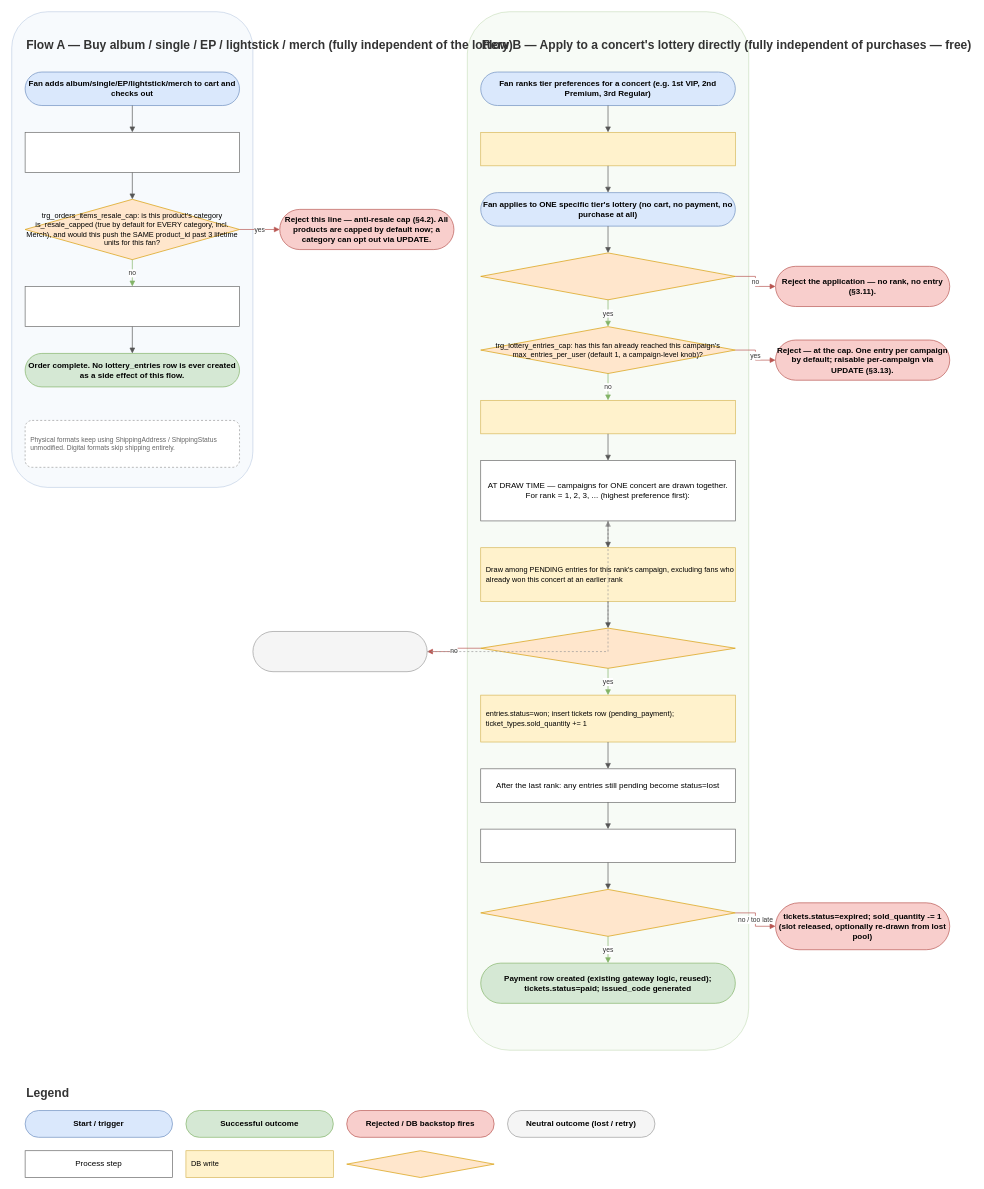
Some shapes in this 984 by 1189 pixel diagram are drawn without their labels. Here are the shapes that lost their labels. From the top down, the box of each, then its label:
(24, 132, 240, 173): Existing checkout flow: create Order / OrderItem / Payment
(480, 132, 735, 166): Upsert lottery_preferences rows (concert_id, user_id, ticket_type_id, rank)
(480, 252, 735, 300): fn_require_lottery_preference: has this fan ranked that tier for this concert?
(24, 286, 240, 327): Payment assumed to succeed (mock gateway, this phase)
(480, 400, 735, 434): Insert lottery_entries row (status = pending)
(252, 631, 427, 672): Stays pending — rolls forward into next rank's draw (loop back to the rank loop)
(480, 627, 735, 668): Won at this rank?
(480, 828, 735, 863): Notify winner by email (payment link + deadline)
(480, 889, 735, 936): Fan pays before payment_deadline_at — the FIRST money in this whole flow
(346, 1150, 494, 1178): Decision
